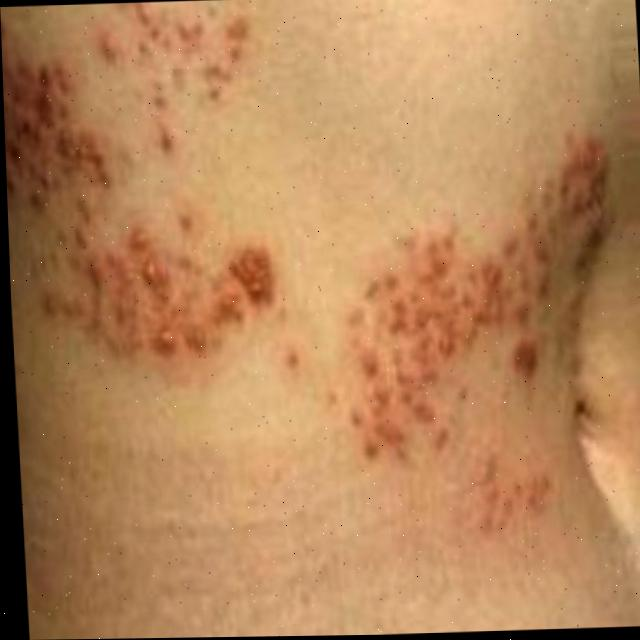Shingles: (328, 144, 620, 521), (0, 0, 283, 356)
